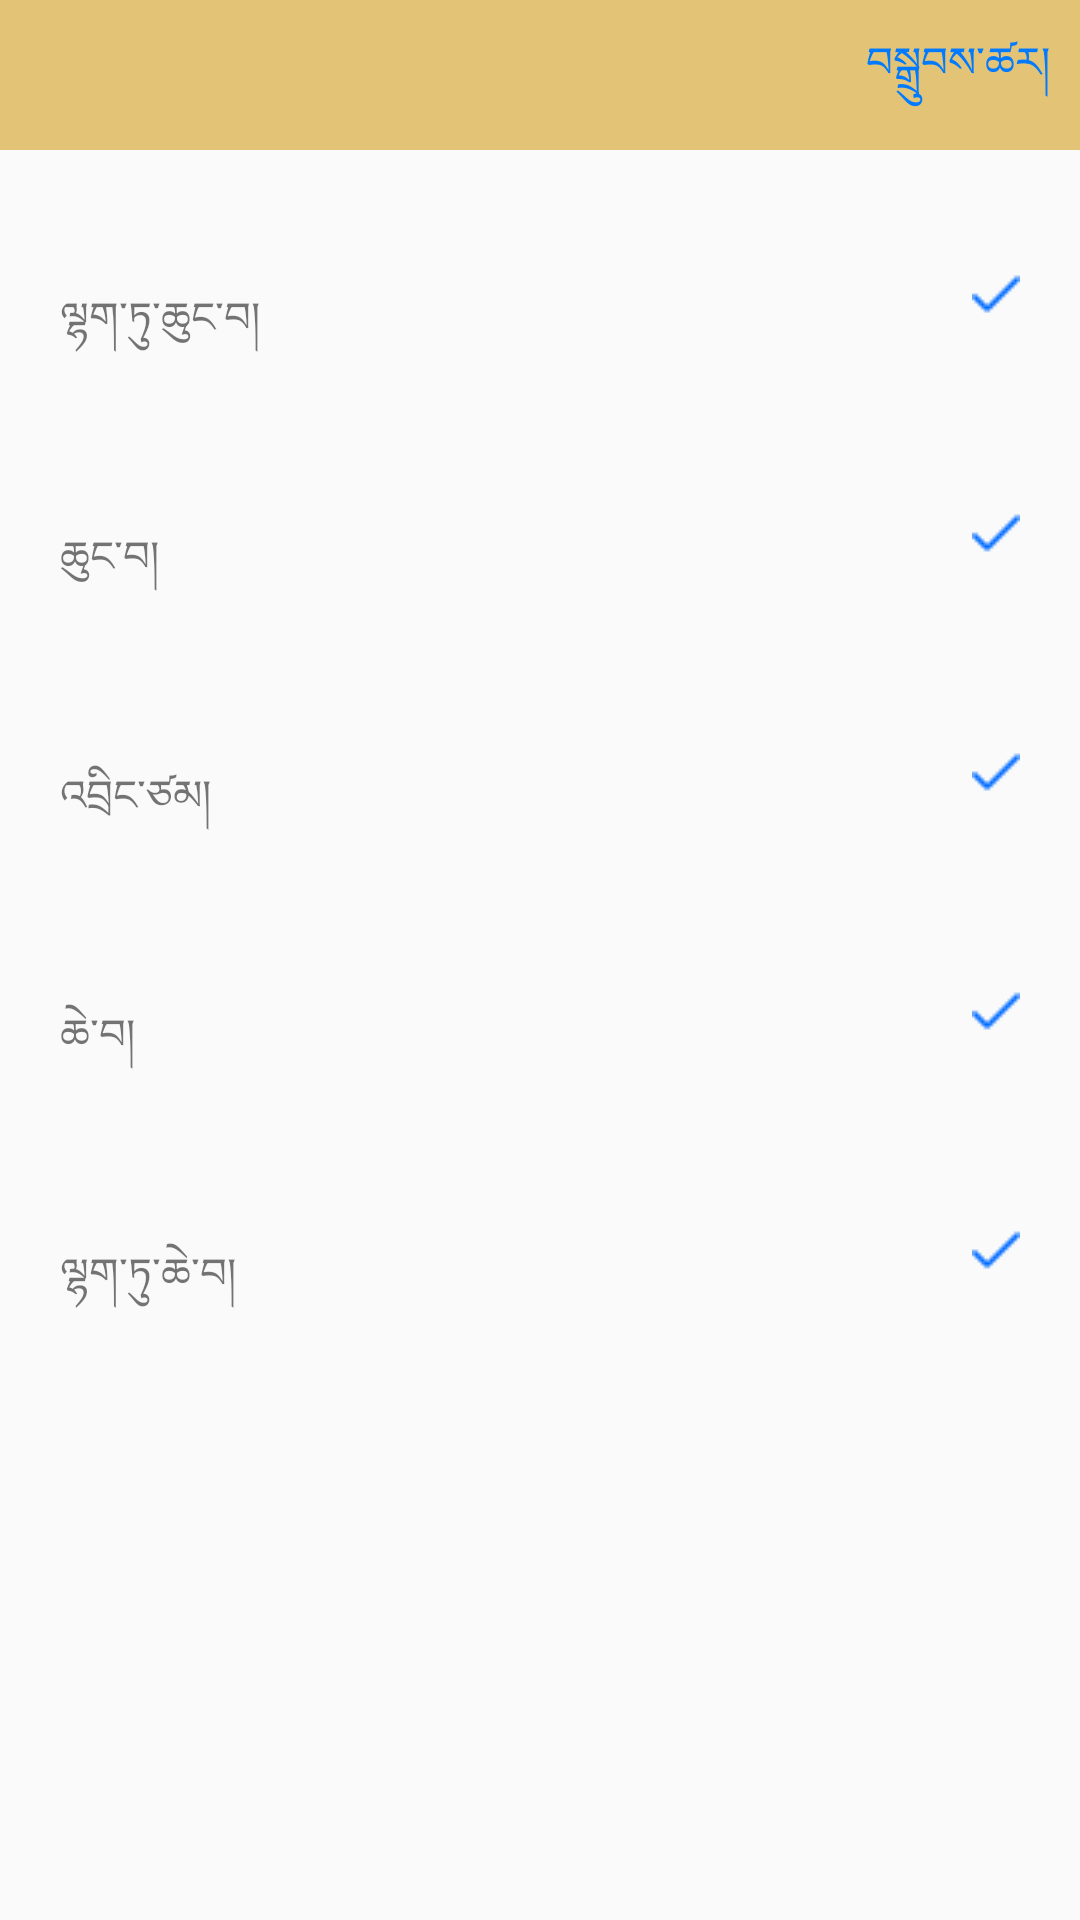

Icon bounding boxes for this 1080 x 1920 phone screenshot, format detection(x1, y1, x2, y2):
checker: detection(972, 275, 1020, 313), detection(972, 514, 1020, 552), detection(972, 753, 1020, 791), detection(972, 992, 1020, 1030), detection(972, 1231, 1020, 1269)
